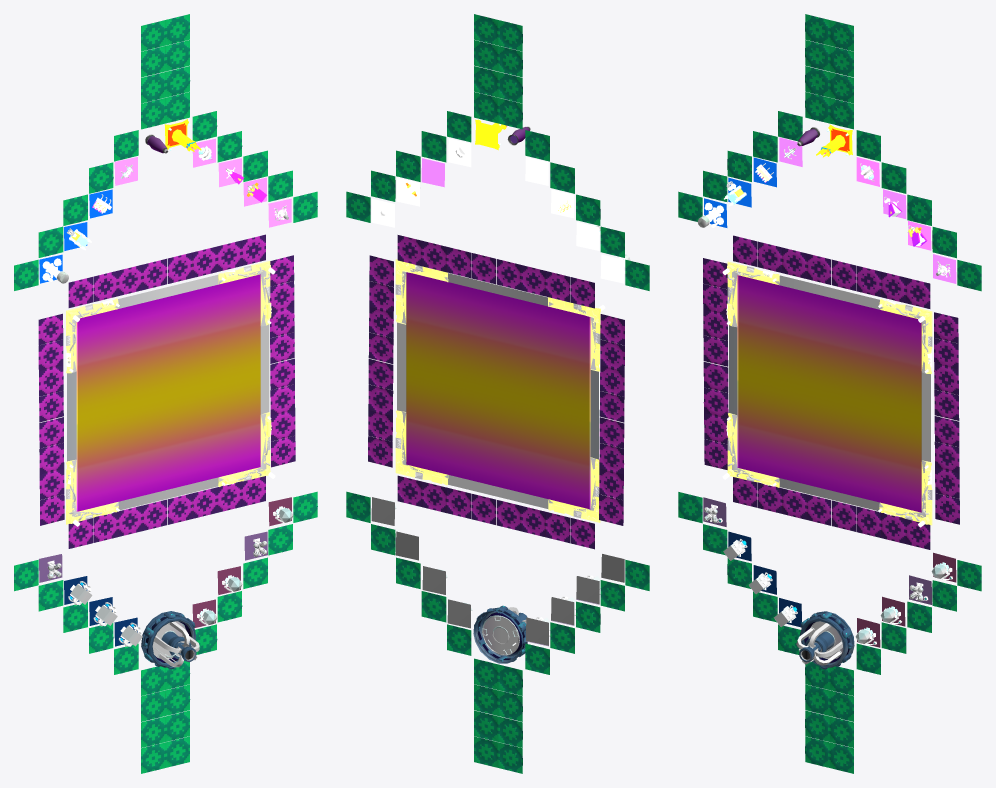
File: Parcel10_Baked.fbx
3 renders of one model, left to right at view 1: azimuth 30°, elevation 25°; view 2: azimuth 150°, elevation 25°; view 3: azimuth 330°, elevation 25°, orthographic.
Visible parts, largest first — view 1: Parcel10_Baked; view 2: Parcel10_Baked; view 3: Parcel10_Baked.
Boxes of the visible parts, x1,y1,x2,y2 form: Parcel10_Baked: [14, 14, 317, 773]; Parcel10_Baked: [346, 14, 649, 773]; Parcel10_Baked: [678, 14, 981, 773].
Bounding box in the file's own units: 254 × 597 × 41.83.
Materials: 1 (1 with a texture image).
